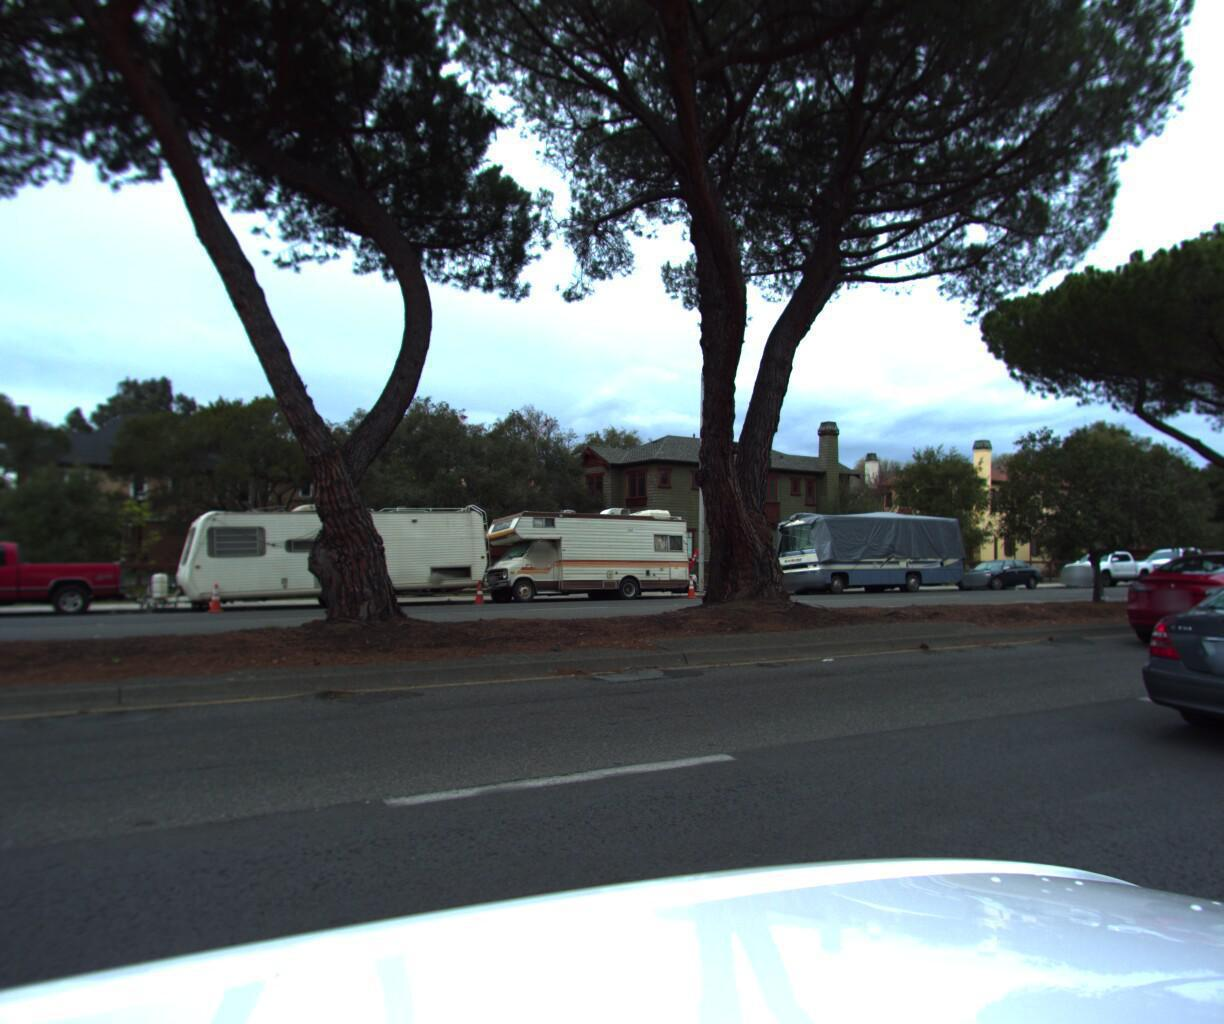car: (1107, 548, 1224, 786), (1103, 541, 1224, 654), (0, 536, 136, 628), (1049, 544, 1156, 586), (1121, 542, 1224, 584), (946, 553, 1046, 590)
other_vehicle: (138, 486, 503, 623), (472, 494, 731, 606), (763, 501, 971, 596)
